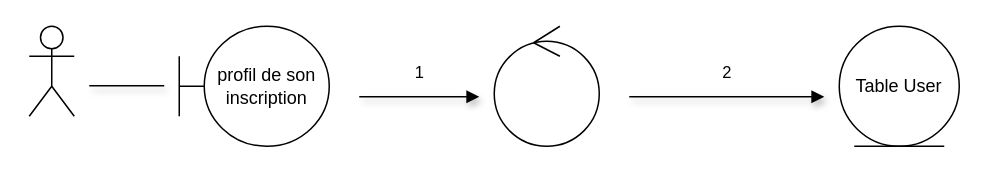
This 986x174 diagram has some shape labels left out. The shapes that lost their labels are listed below. From the top down, each one's centre as x and y in pixels, then its label:
At (x=51, y=70): "Admin".
At (x=546, y=85): "validation des saisies".
